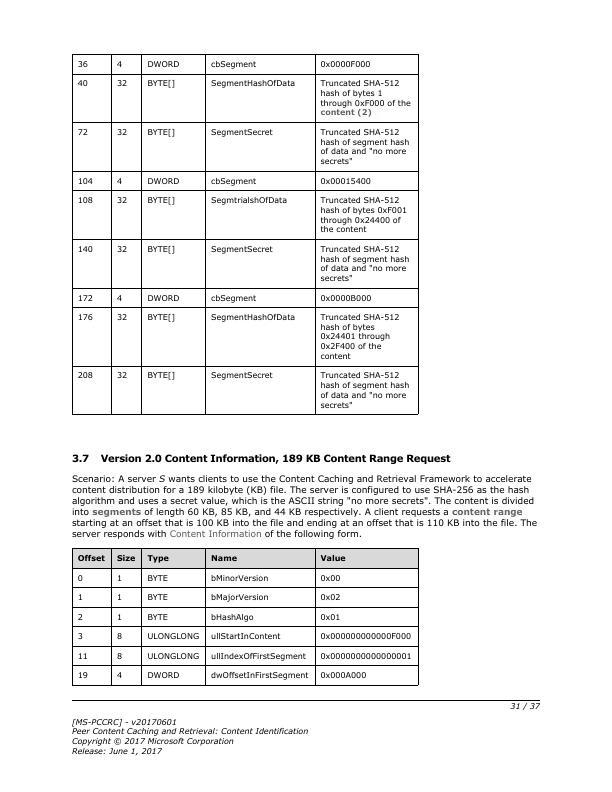table: (71, 52, 421, 418), (70, 546, 422, 689)
text: (68, 473, 540, 541), (67, 714, 311, 757), (68, 453, 456, 466)
